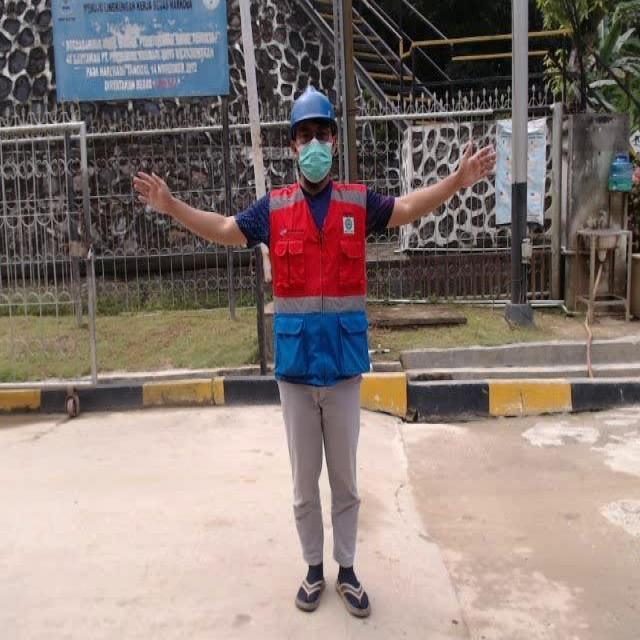hat: (288, 83, 340, 131)
